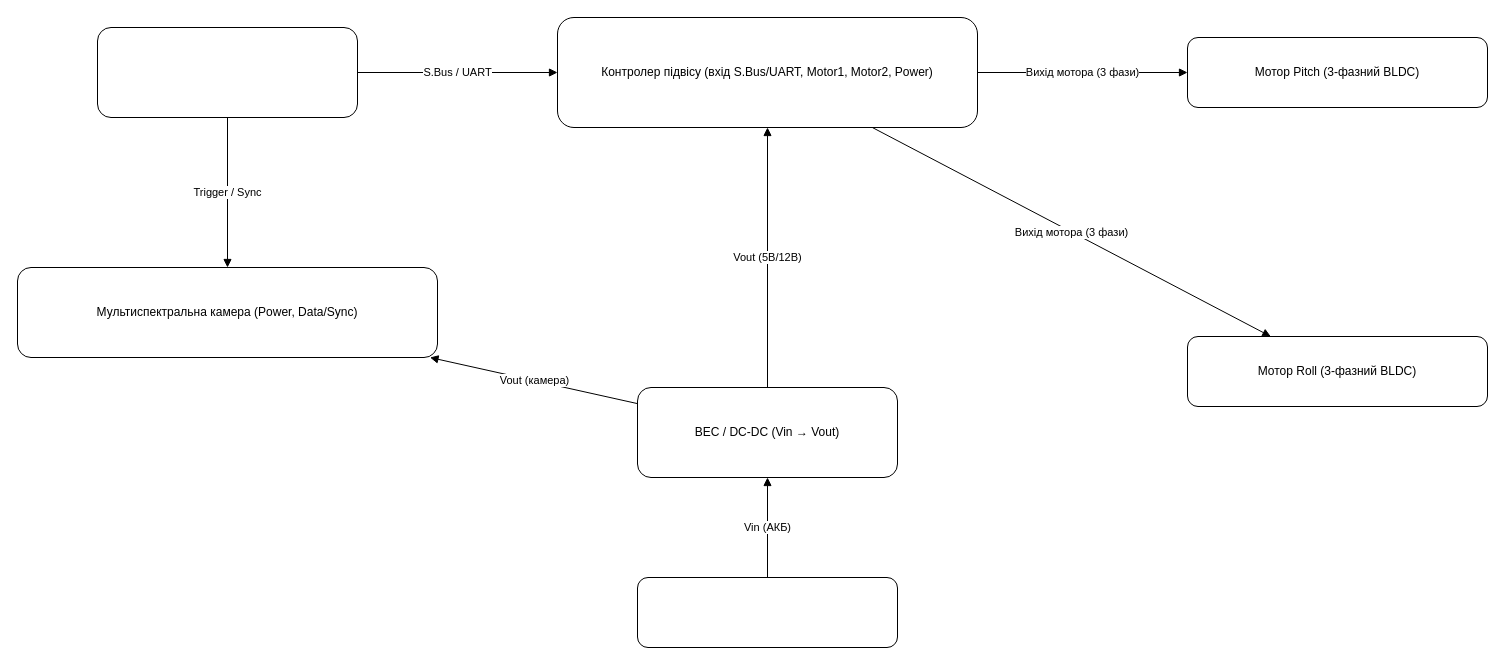
This 1505x665 diagram has some shape labels left out. Each missing label, with the box of its shape:
FC (вихід S.Bus/UART): (96, 26, 358, 118)
АКБ коптера (Power bus): (636, 576, 898, 648)
